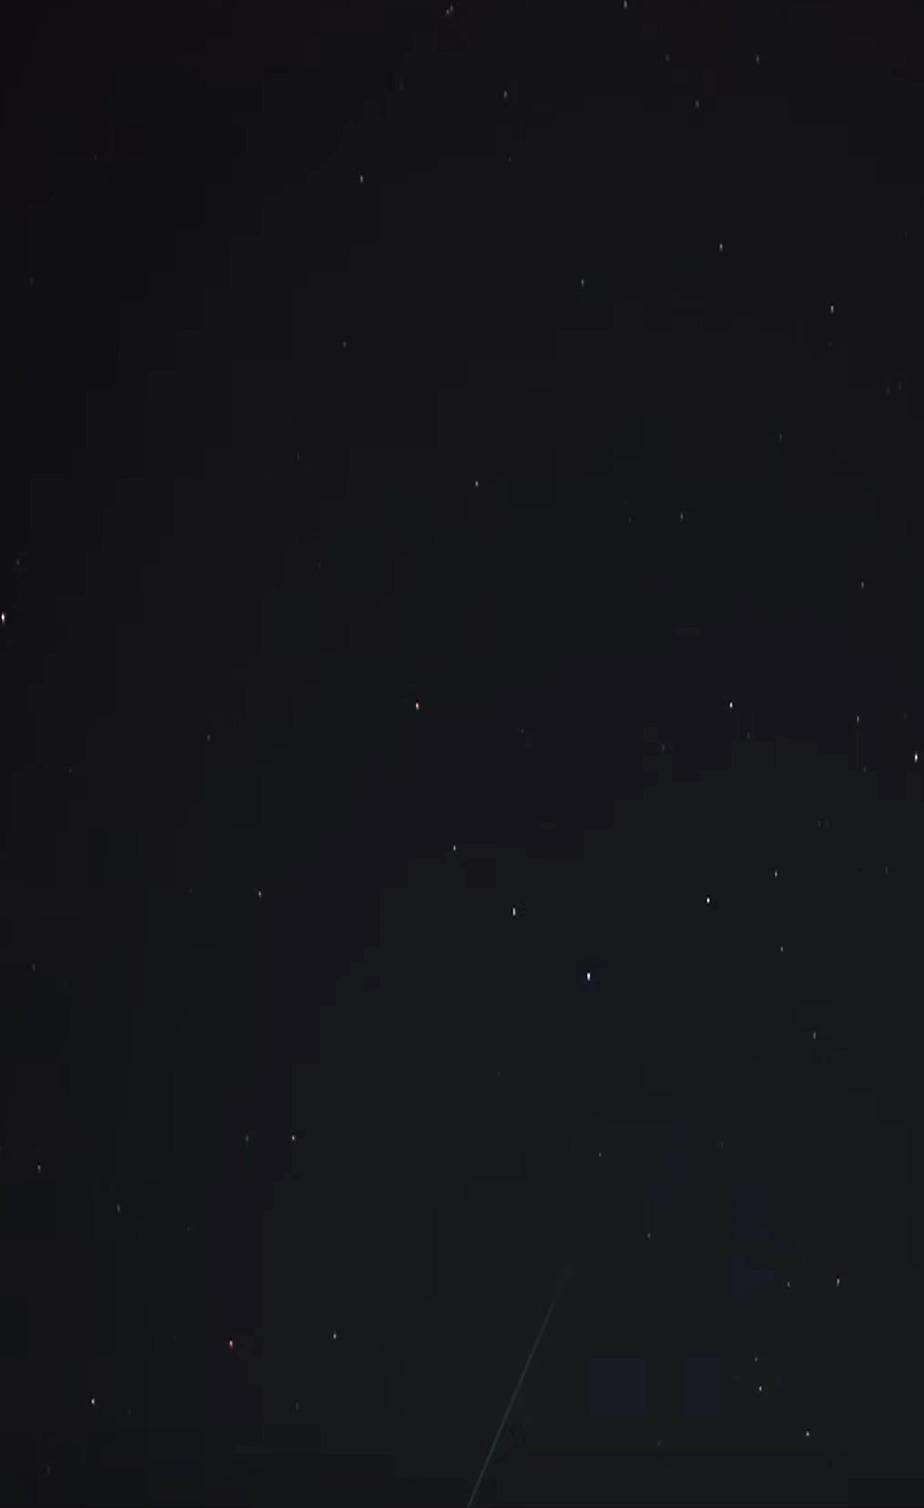meteorite: (433, 1246, 589, 1507)
